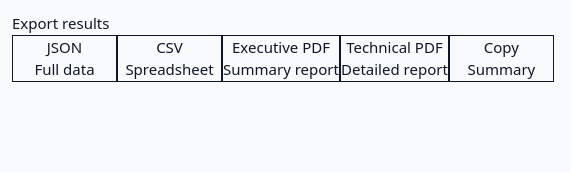
Test case: ExportPanel — copy summary › copies the discovery summary, one line per active host
Click the button "Copy Summary" at (501, 58), box [449,34,554,82]
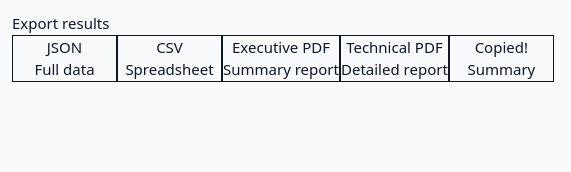
Expected: the button "Copied! Summary" is shown, [449,34,554,82]
